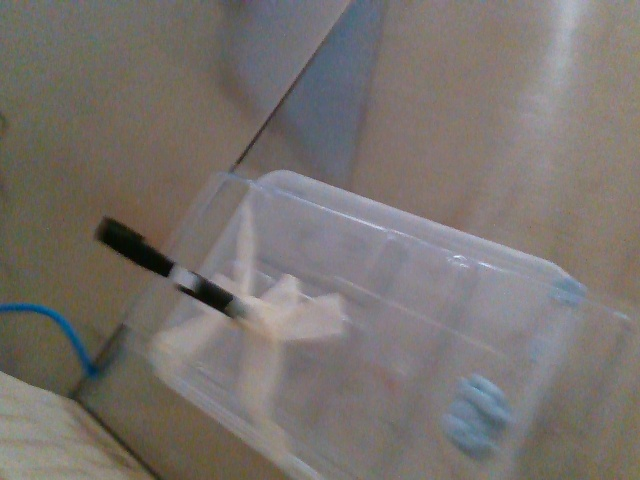test_strip: (93, 217, 200, 290)
